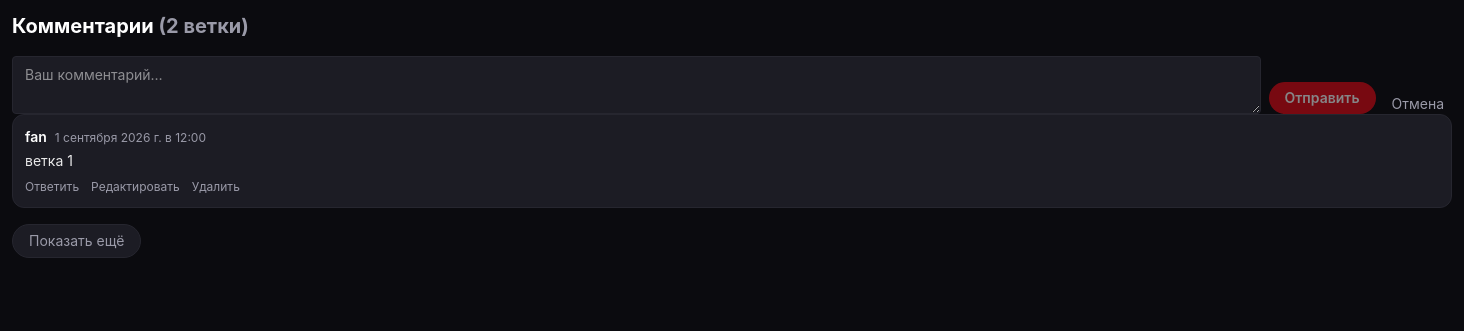
it: Comments › догружает ветки по кнопке «показать ещё»
Expected: the text "ветка 1" is shown, [25,152,73,169]
Click the button with test id "comments-more".
click(77, 241)  # box [12,224,141,258]
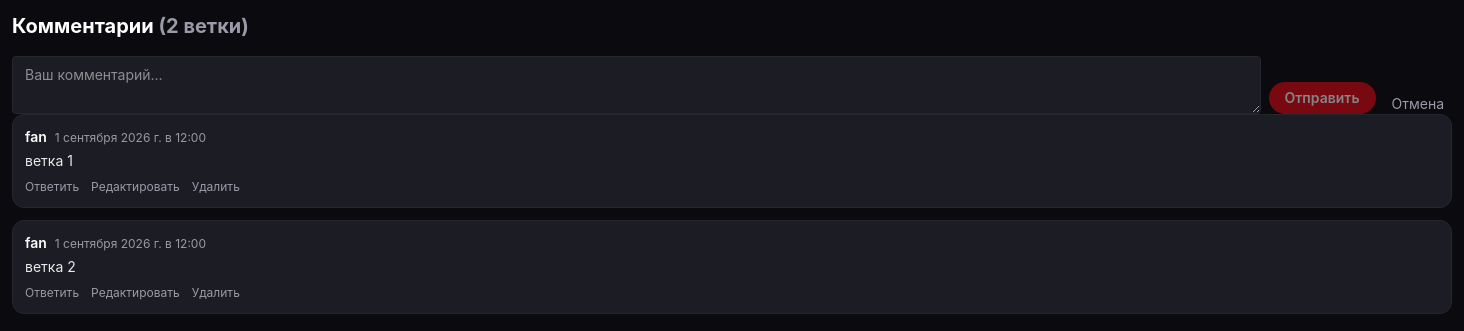
Expected: the text "ветка 2" is shown, [25,258,76,275]
Expected: the button with test id "comments-more" is gone
